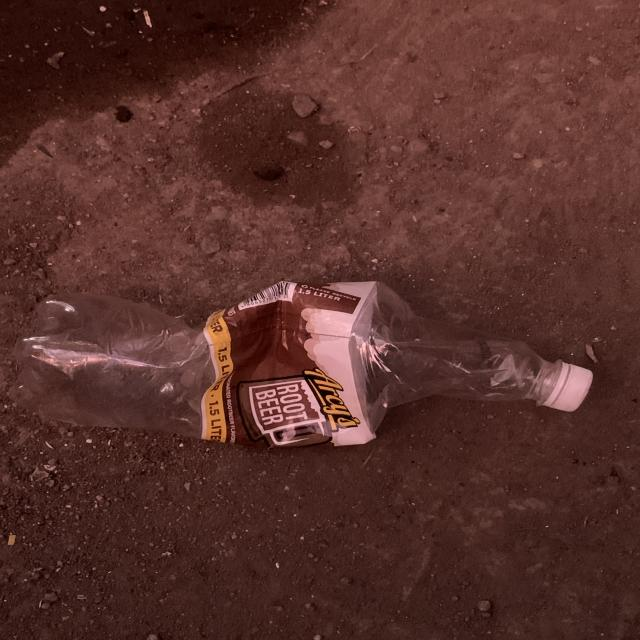Bottle: (12, 281, 593, 447)
